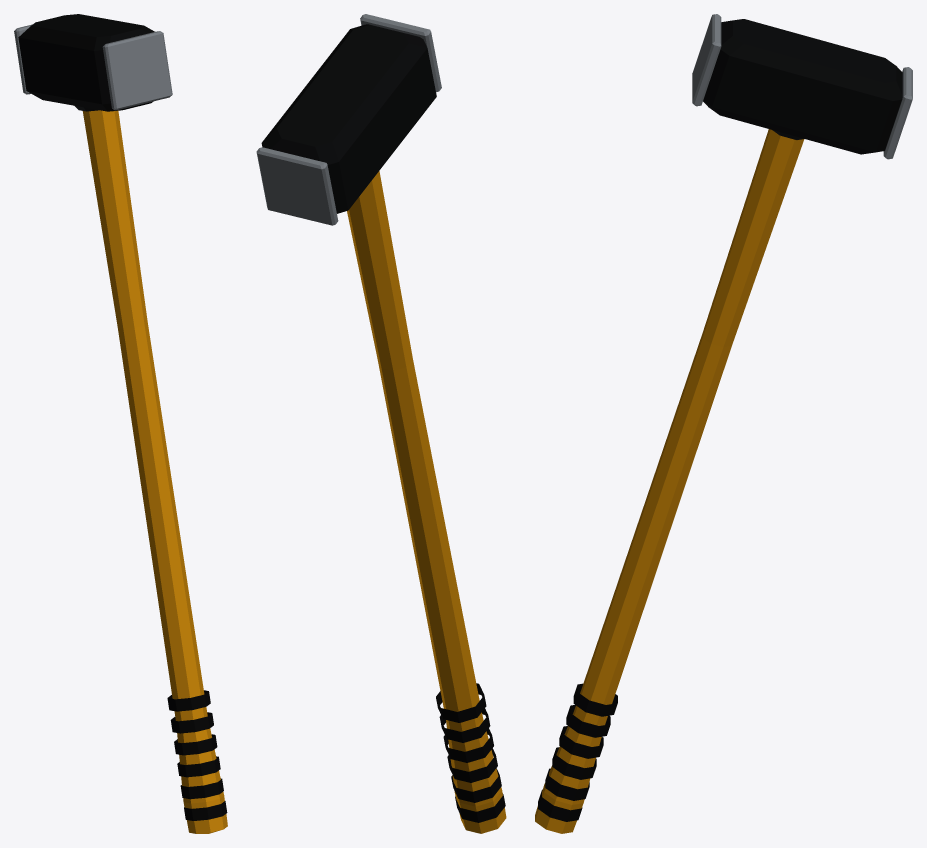
File: SM_Wep_Sledgehammer.glb
The picture shows the model from 3 angles, left to right: view 1: azimuth 30°, elevation 25°; view 2: azimuth 150°, elevation 25°; view 3: azimuth 270°, elevation 25°; orthographic projection. The views are drawn at different scales.
Visible parts, largest first — view 1: SM_Wep_Sledgehammer; view 2: SM_Wep_Sledgehammer; view 3: SM_Wep_Sledgehammer.
Part boxes in pixels (x1,y1,x2,y2): SM_Wep_Sledgehammer: [14, 14, 227, 833]; SM_Wep_Sledgehammer: [256, 14, 506, 833]; SM_Wep_Sledgehammer: [535, 14, 912, 833].
Bounding box in the file's own units: 0.085 × 0.9095 × 0.3888.
Materials: 1 (1 with a texture image).
